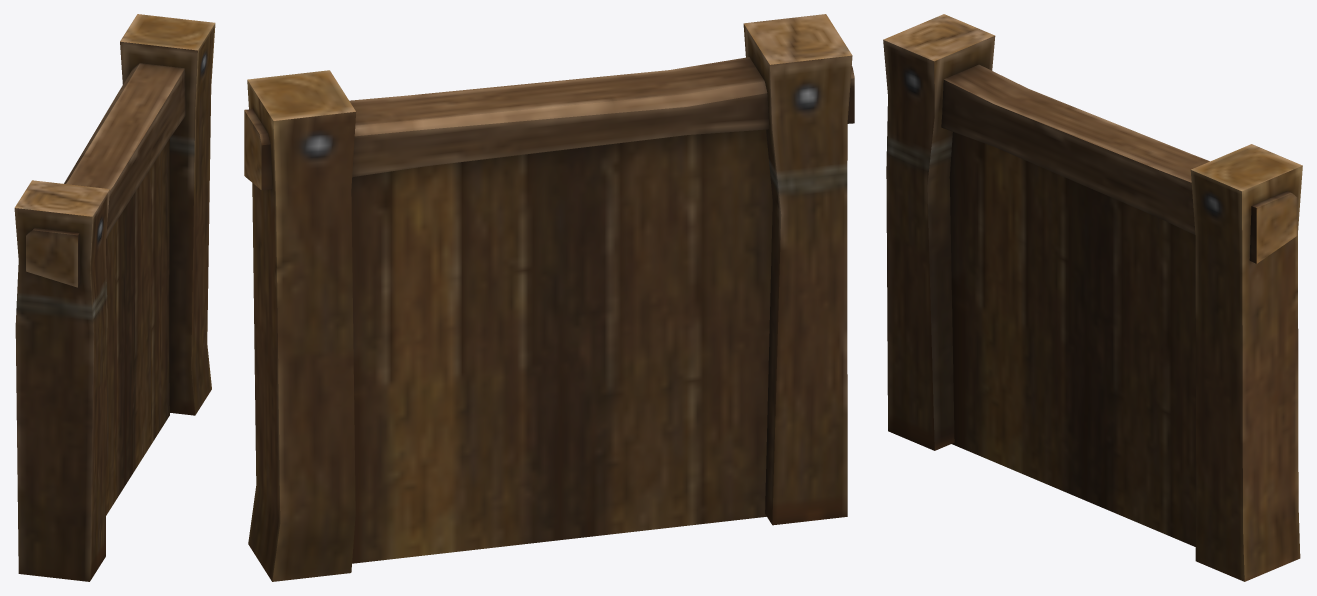
The model's file is Wall_wood_el3.fbx.
The picture shows the model from 3 angles, left to right: view 1: azimuth 30°, elevation 25°; view 2: azimuth 150°, elevation 25°; view 3: azimuth 270°, elevation 25°; orthographic projection. The views are drawn at different scales.
Visible parts, largest first — view 1: Wall_wood_el3; view 2: Wall_wood_el3; view 3: Wall_wood_el3.
Part boxes in pixels (x1,y1,x2,y2): Wall_wood_el3: (14,14,215,581); Wall_wood_el3: (244,14,854,581); Wall_wood_el3: (883,14,1302,581).
Size of the model in its own units: 198 by 205 by 198.
Materials: 1 (1 with a texture image).
